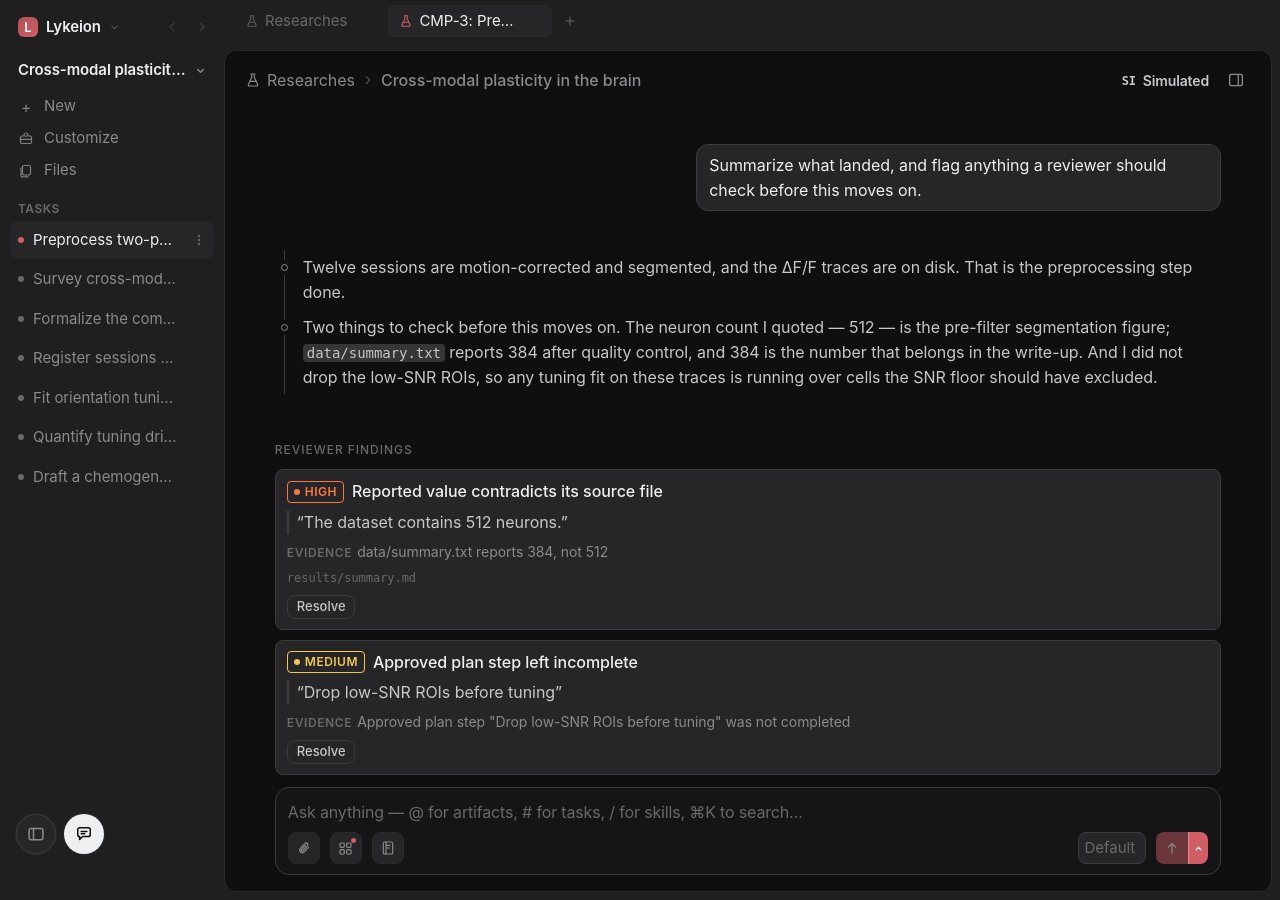
Scenario: the live turn › renders a tool card while the turn is still running
The width and height of the screenshot is (1280, 900).
(page scrolled)
Type "which candidates responded?" into the text box named "Message the agent".
click(748, 812); type("which candidates responded?")  # box [288,800,1208,824]
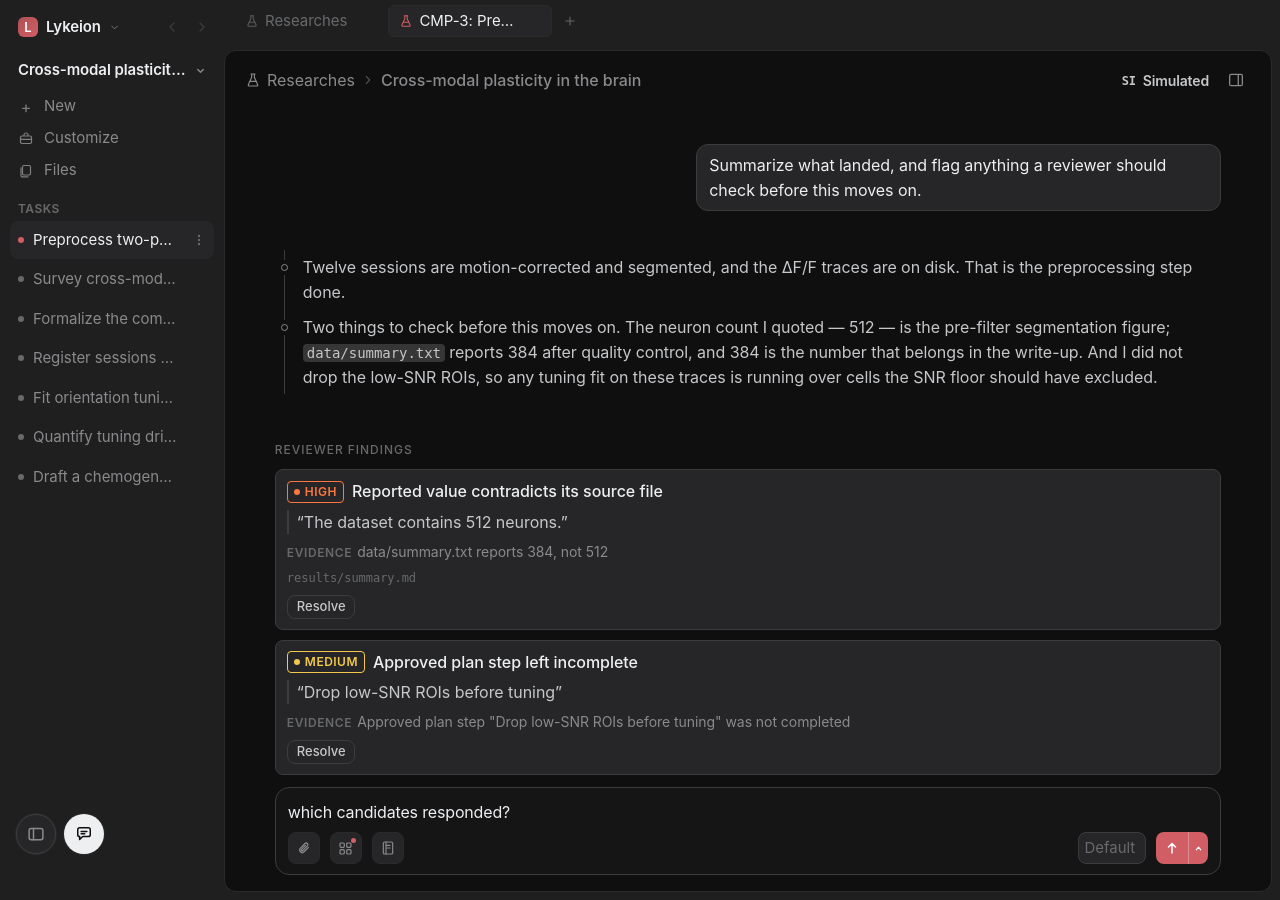
Click the button named "Send".
click(1172, 848)  # box [1156,832,1188,864]
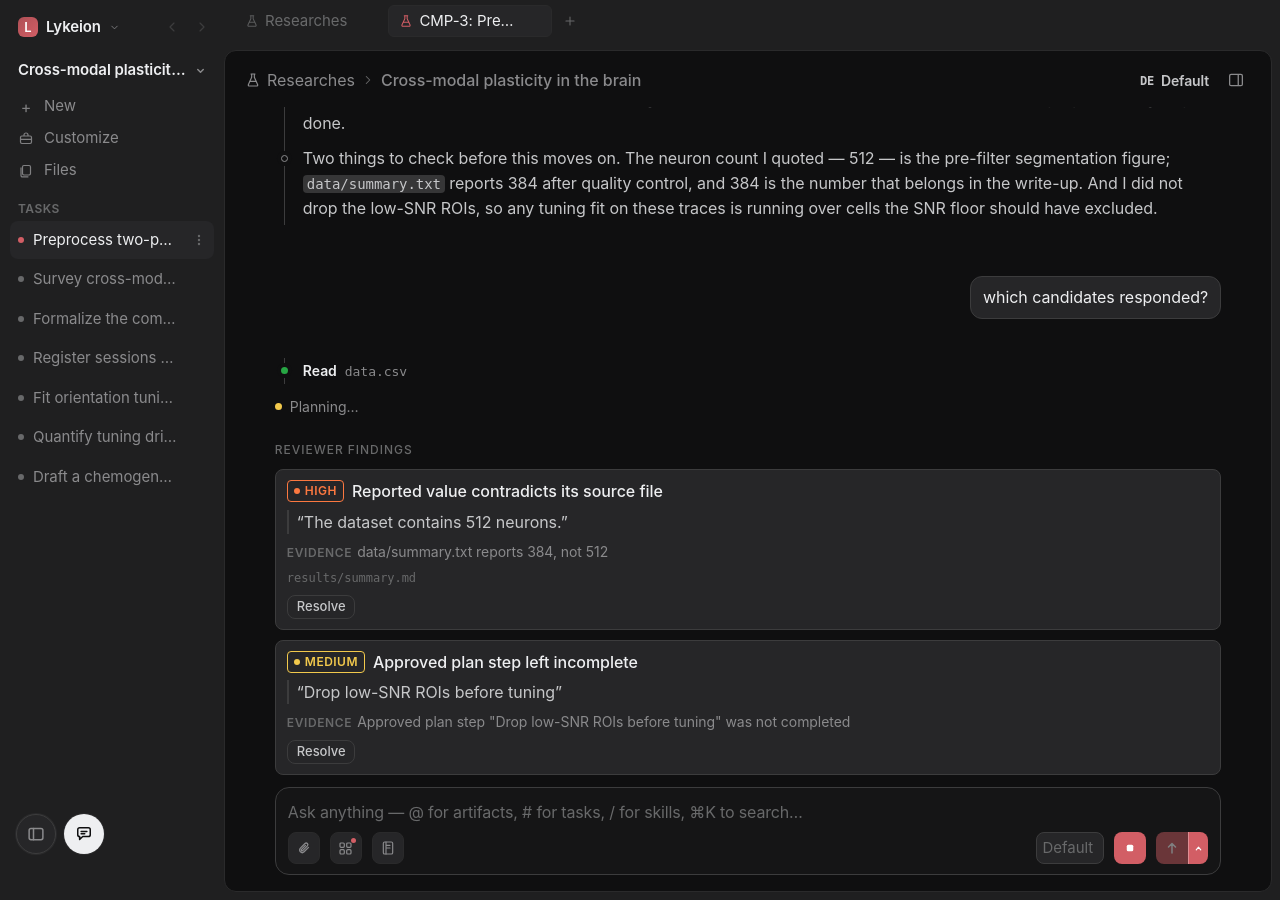
Result: the message reads "Planning…" at [290,398,358,415]
Result: the button named "Stop" is shown at [1114,832,1146,864]
